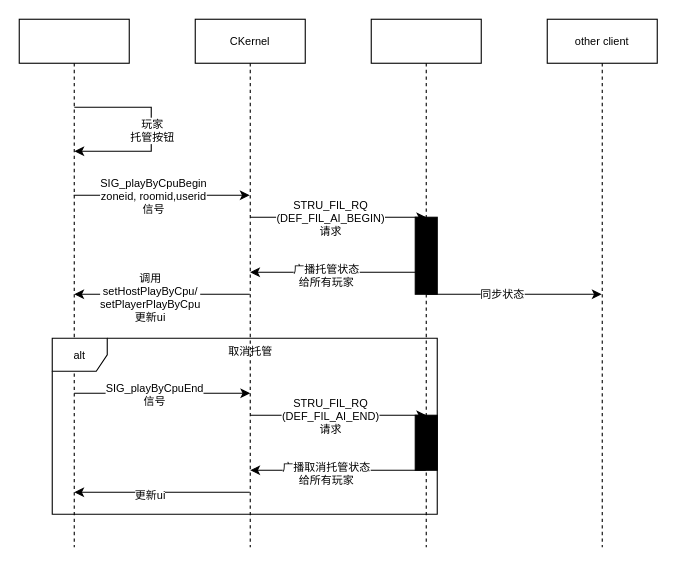
The diagram is 677 pixels wide and 567 high, and some of its shapes have lost their labels. Here are the shapes that lost their labels. From the top down, the box of each, then its label:
(18, 18, 129, 547): RoomDialog
(370, 18, 481, 547): Server
